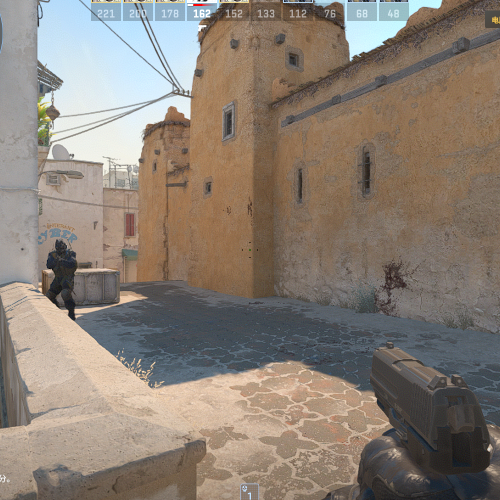ct_body: (44, 238, 79, 321)
ct_head: (54, 239, 69, 256)
